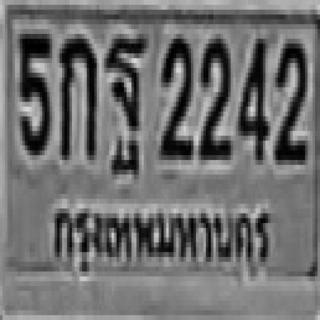A01: (57, 31, 94, 153)
A16: (104, 34, 144, 155)
N02: (273, 36, 305, 158), (159, 34, 191, 155), (196, 34, 228, 155)
N04: (236, 34, 265, 160)
N05: (17, 29, 50, 150)
P04: (46, 192, 275, 281)
